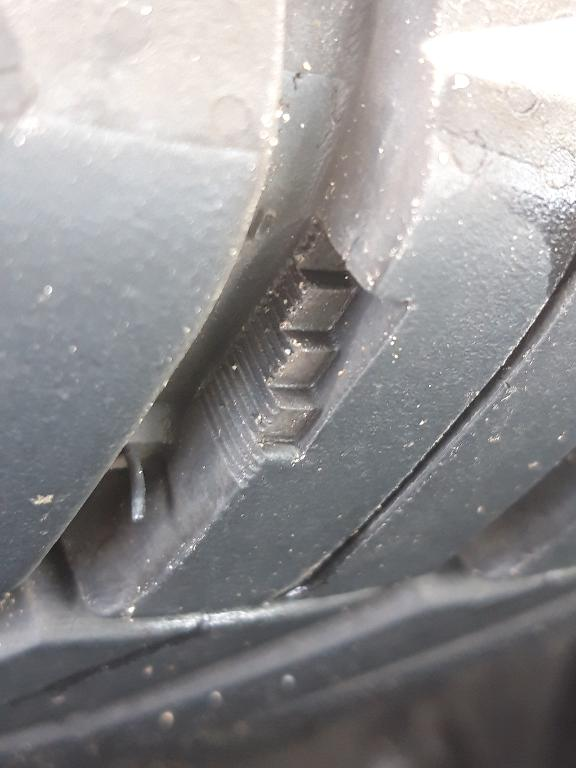temoin:90: (193, 211, 421, 499)
